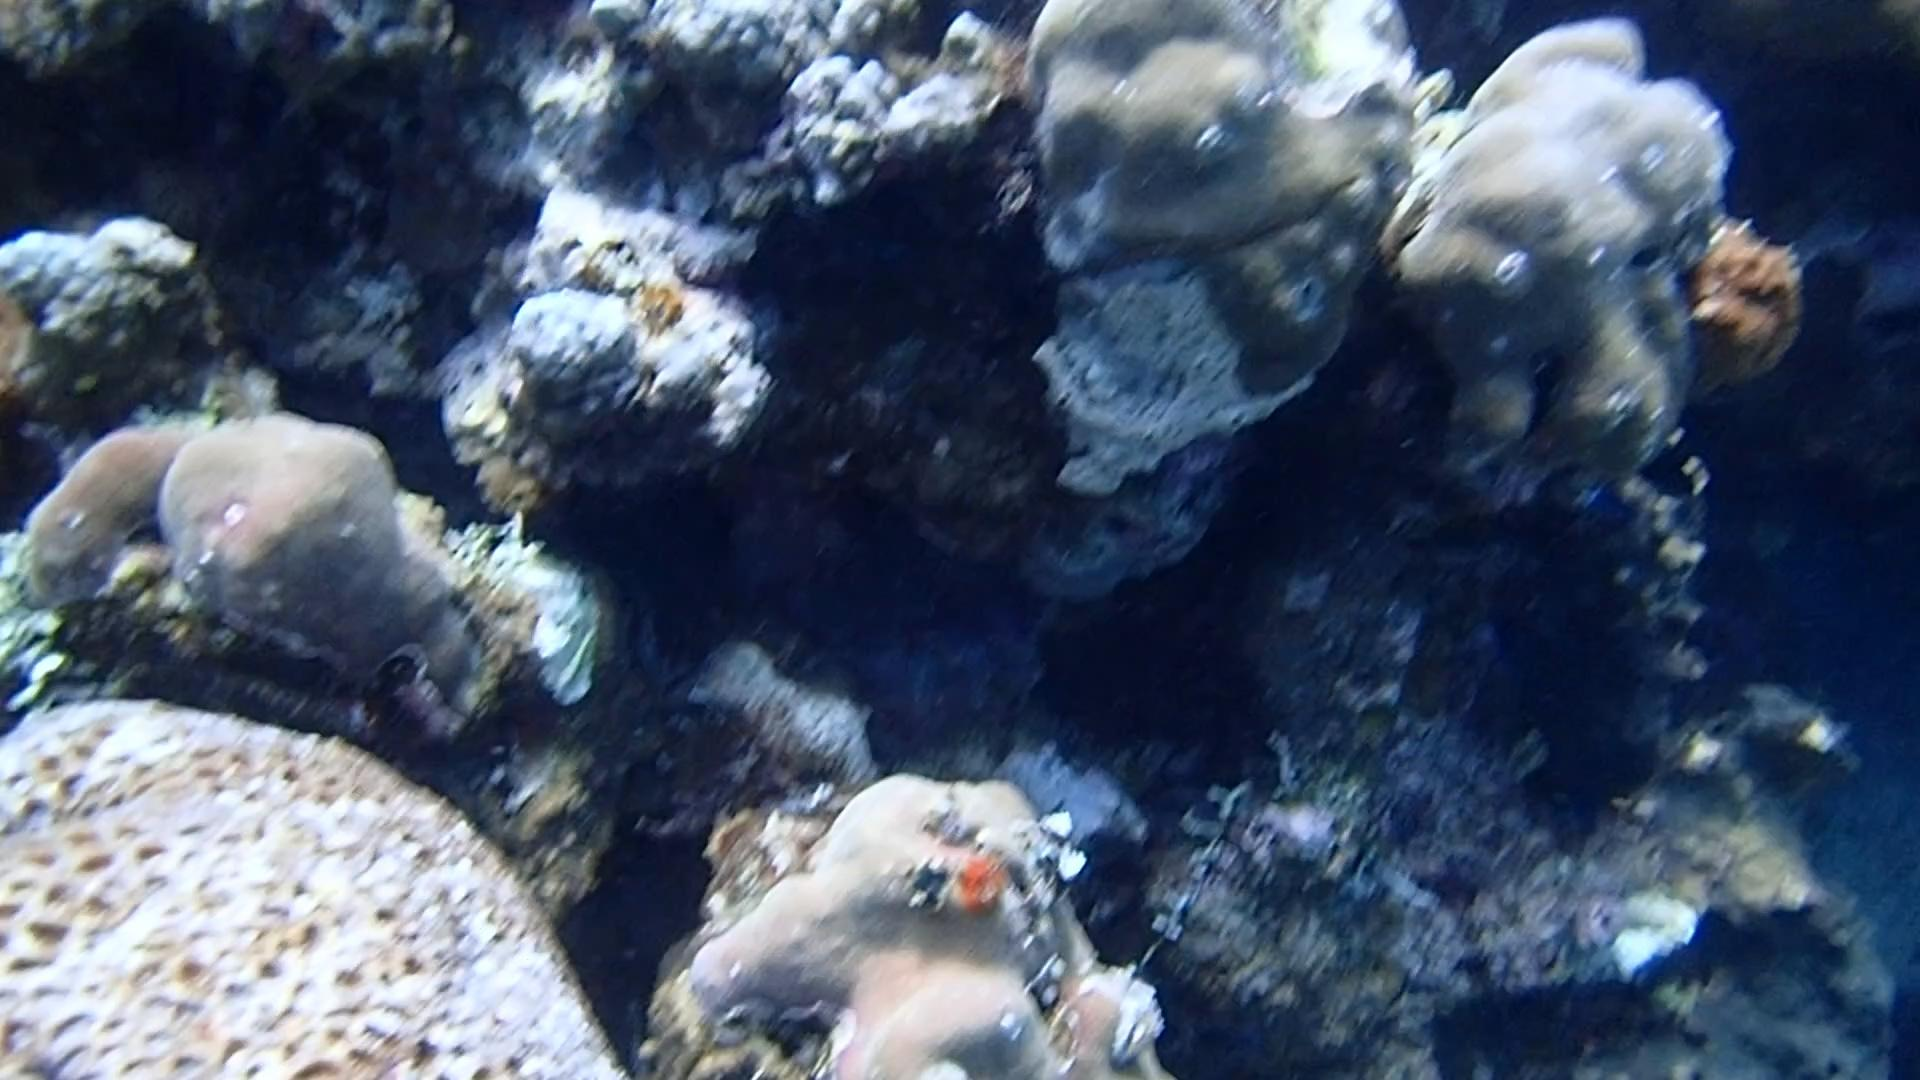Dark Fish: (1629, 438, 1708, 506)
